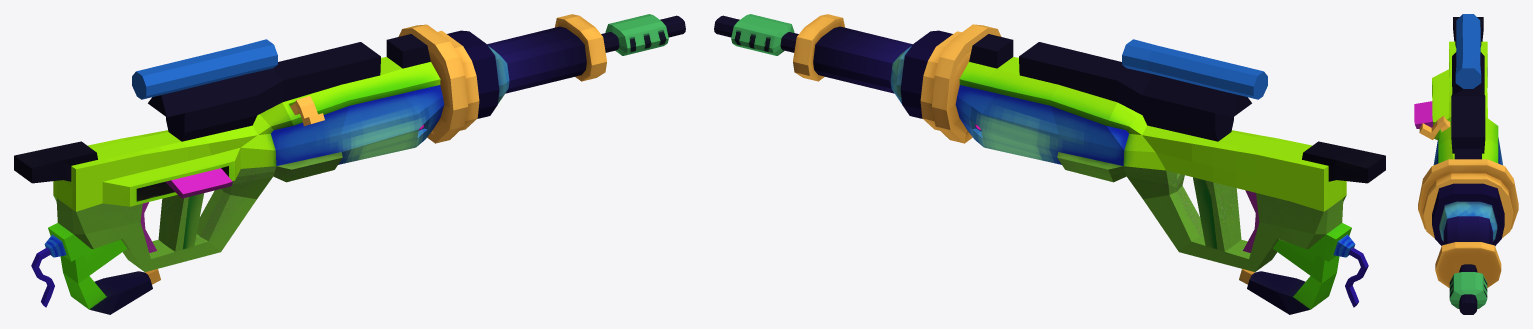
3 renders of one model, left to right at view 1: azimuth 30°, elevation 25°; view 2: azimuth 150°, elevation 25°; view 3: azimuth 270°, elevation 25°, orthographic. The views are drawn at different scales.
Parts seen in each view (by area): view 1: ArcadeGun; view 2: ArcadeGun; view 3: ArcadeGun.
Part boxes in pixels (left/top/right/bottom): ArcadeGun: left=14, top=14, right=685, bottom=314; ArcadeGun: left=714, top=14, right=1385, bottom=314; ArcadeGun: left=1414, top=14, right=1518, bottom=314.
Bounding box in the file's own units: 4.44 × 1.45 × 0.718.
Materials: 1 (1 with a texture image).
